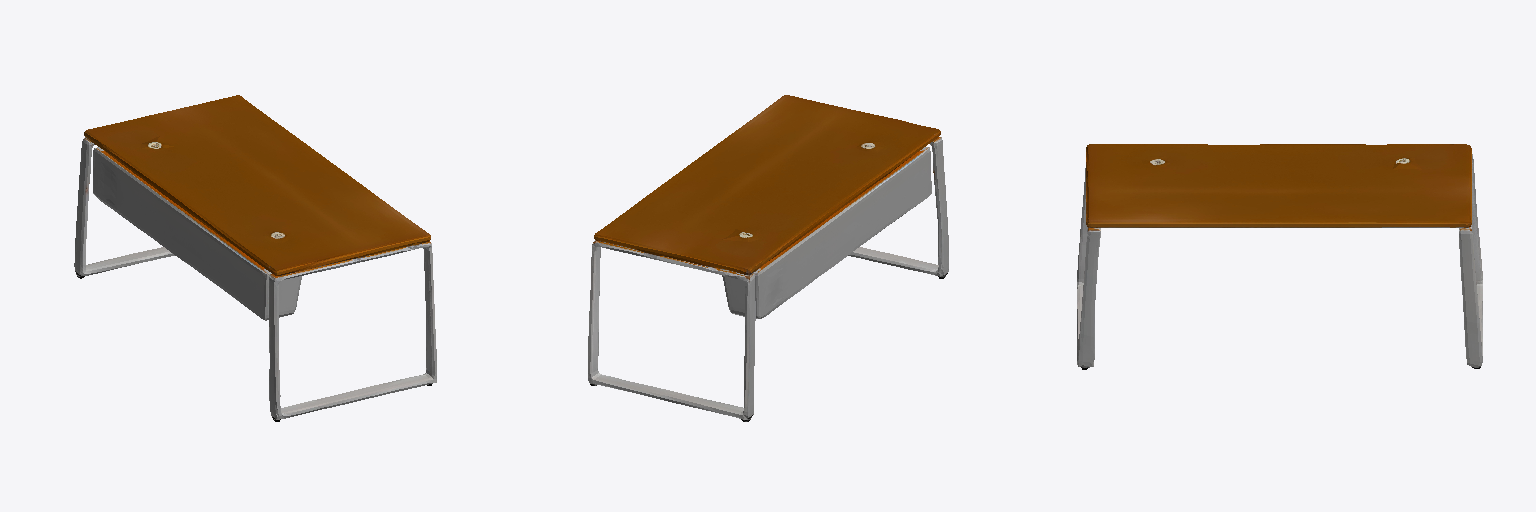
3 views of the same model, side by side, from view 1: azimuth 30°, elevation 25°; view 2: azimuth 150°, elevation 25°; view 3: azimuth 270°, elevation 25° (orthographic).
Parts seen in each view (by area): view 1: tripo_node_c9c96cb0-76cc-4693-9d92-56c406b44016; view 2: tripo_node_c9c96cb0-76cc-4693-9d92-56c406b44016; view 3: tripo_node_c9c96cb0-76cc-4693-9d92-56c406b44016.
Boxes of the visible parts, box(x1,y1,x2,y2) form: tripo_node_c9c96cb0-76cc-4693-9d92-56c406b44016: box(74, 95, 436, 421); tripo_node_c9c96cb0-76cc-4693-9d92-56c406b44016: box(588, 95, 948, 421); tripo_node_c9c96cb0-76cc-4693-9d92-56c406b44016: box(1077, 144, 1482, 369).
Bounding box in the file's own units: 0.4595 × 0.4155 × 0.9994.
1 materials, 1 textured.